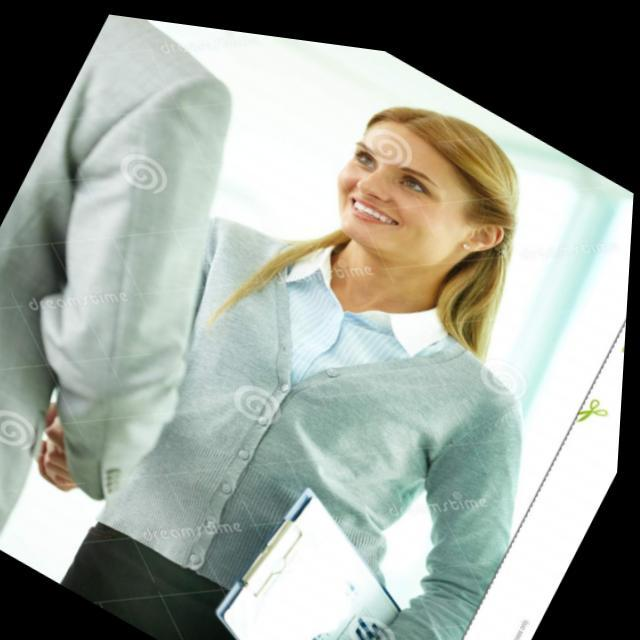Nonhelmet: (328, 90, 528, 290)
